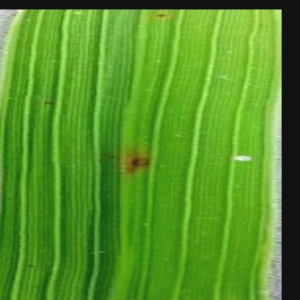Bacterial_Leaf_Blight: (123, 150, 153, 174), (40, 95, 59, 108), (24, 260, 40, 271), (154, 10, 170, 20), (97, 148, 109, 158), (108, 153, 118, 162)
